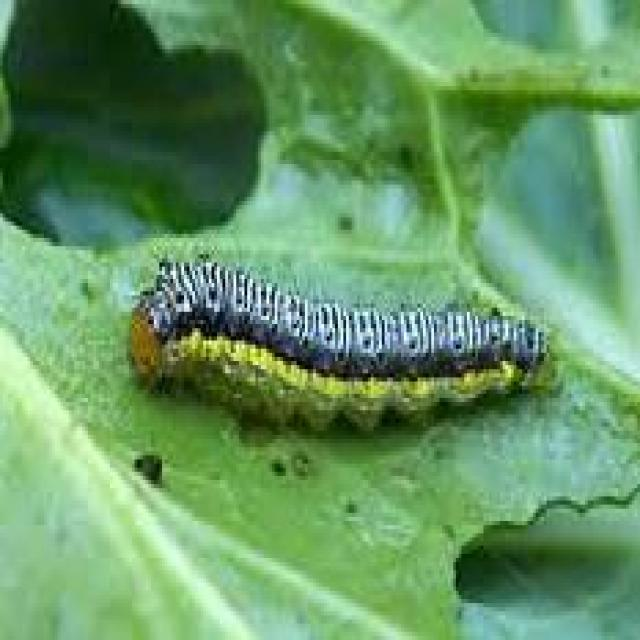BeetArmyWorm-Larva-: (122, 250, 560, 432)
